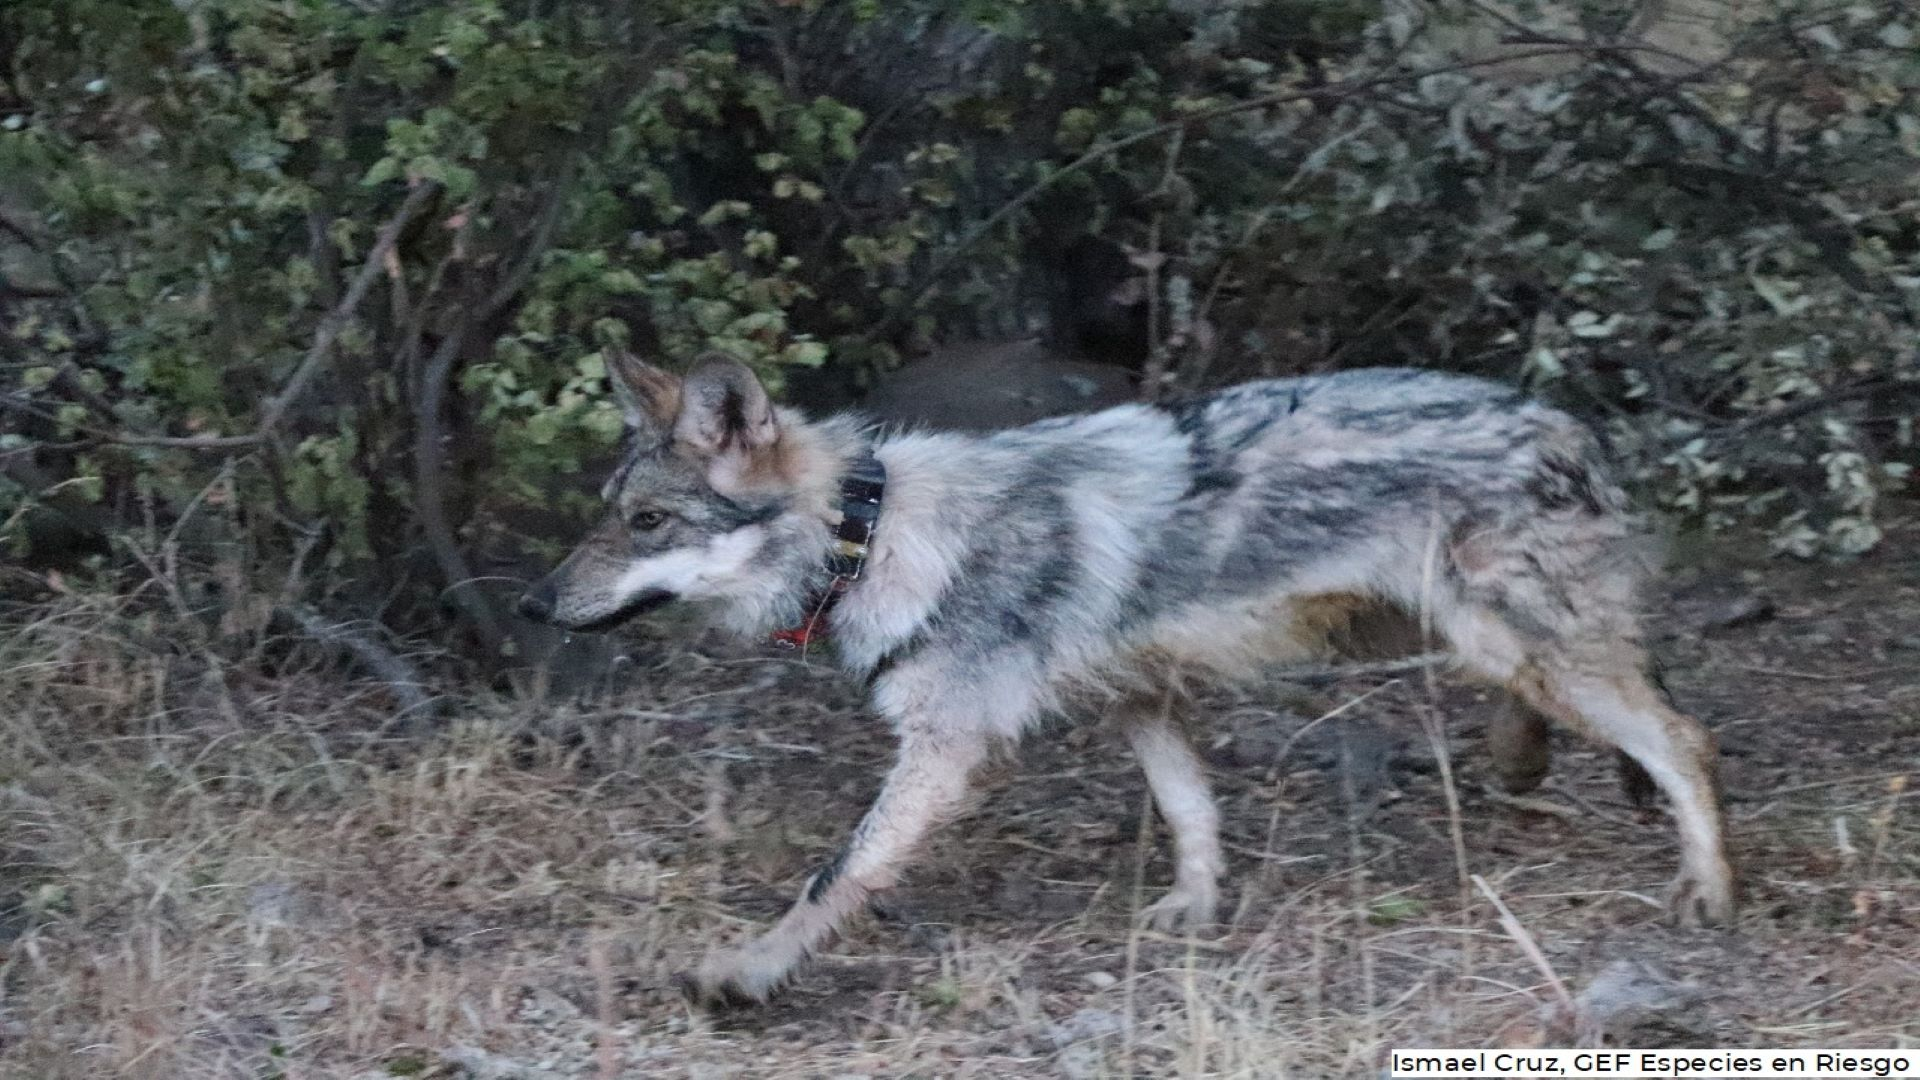Lobo: (454, 301, 1797, 993)
